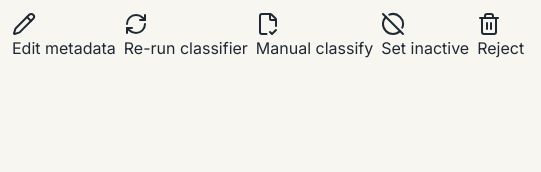
Scenario: needs-review remediation › shows a concise reclassification error and keeps actions available
The width and height of the screenshot is (541, 172).
Click the button "Re-run classifier". click: (186, 36)
box: [124,12,248,60]
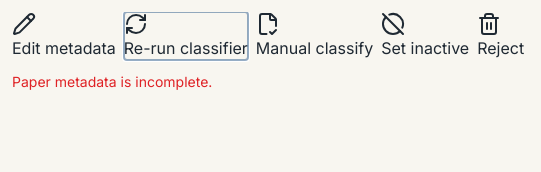
Now the message reads "Paper metadata is incomplete.", box [12,73,212,90]
